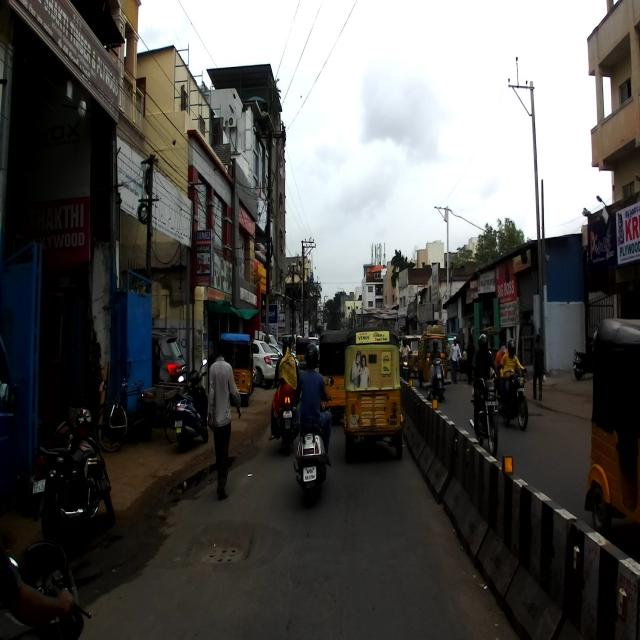autorickshaw: (584, 319, 639, 540), (341, 327, 404, 459)
motorcycle: (32, 403, 117, 539), (0, 540, 92, 637), (469, 360, 502, 458), (498, 366, 528, 431), (277, 382, 297, 455)
scooter: (293, 375, 334, 504), (172, 356, 208, 451), (427, 354, 445, 402)
